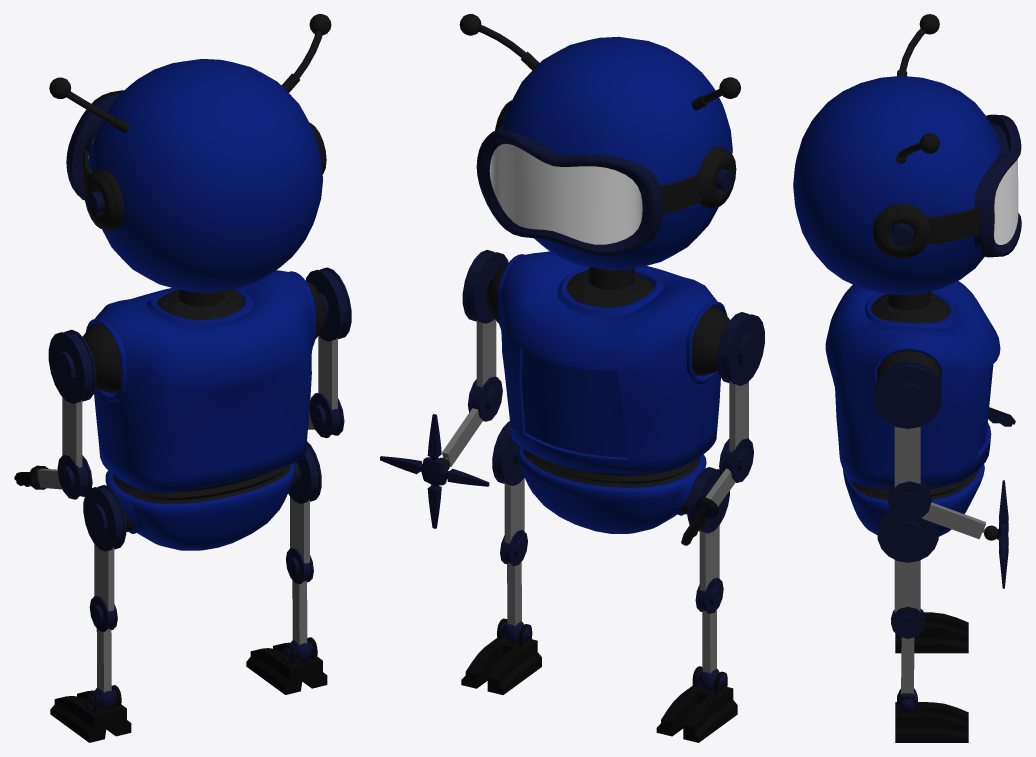
The model's file is BLU_TEST.fbx.
3 views of the same model, side by side, from view 1: azimuth 30°, elevation 25°; view 2: azimuth 150°, elevation 25°; view 3: azimuth 270°, elevation 25° (orthographic). The views are drawn at different scales.
Parts seen in each view (by area): view 1: Left Door_low001; view 2: Left Door_low001; view 3: Left Door_low001.
Boxes of the visible parts, bbox=[...] form: Left Door_low001: bbox=[14, 14, 351, 742]; Left Door_low001: bbox=[380, 14, 764, 742]; Left Door_low001: bbox=[793, 14, 1021, 742].
Size of the model in its own units: 79.81 by 156 by 52.56.
